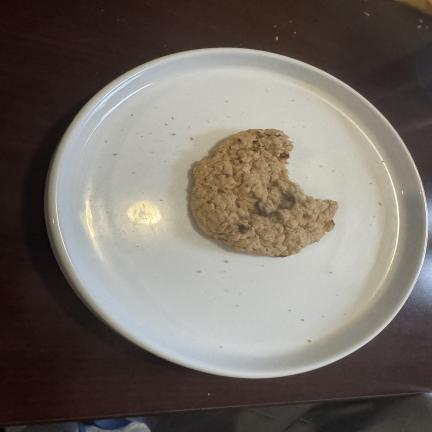cookie: (191, 130, 337, 256)
